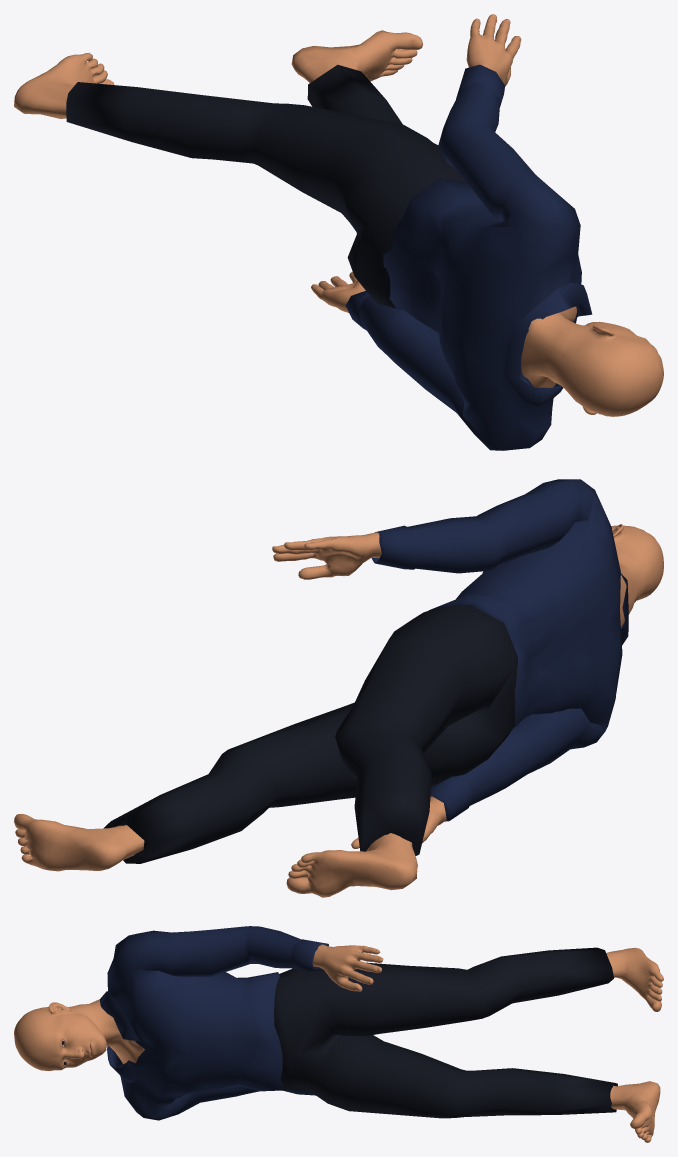
Rendered from walk.obj.
3 views of the same model, one above another, from view 1: azimuth 30°, elevation 25°; view 2: azimuth 150°, elevation 25°; view 3: azimuth 270°, elevation 25° (orthographic). The views are drawn at different scales.
Size of the model in its own units: 0.8713 by 0.5882 by 1.66.
